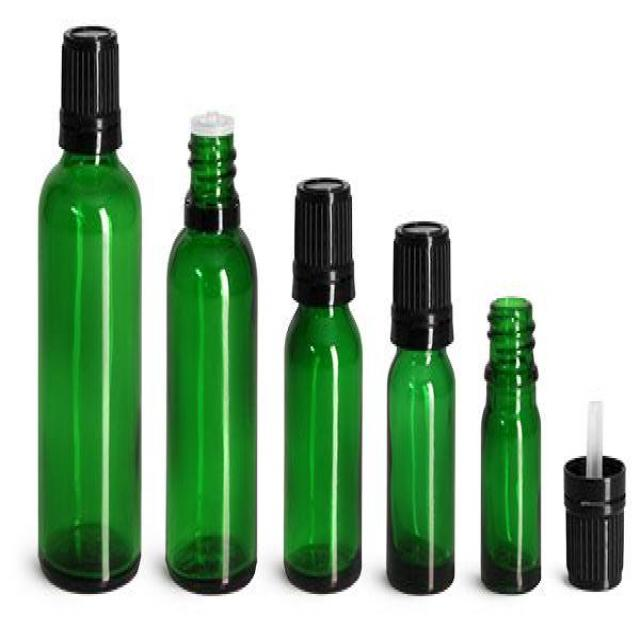non-organic waste: (31, 17, 148, 595)
